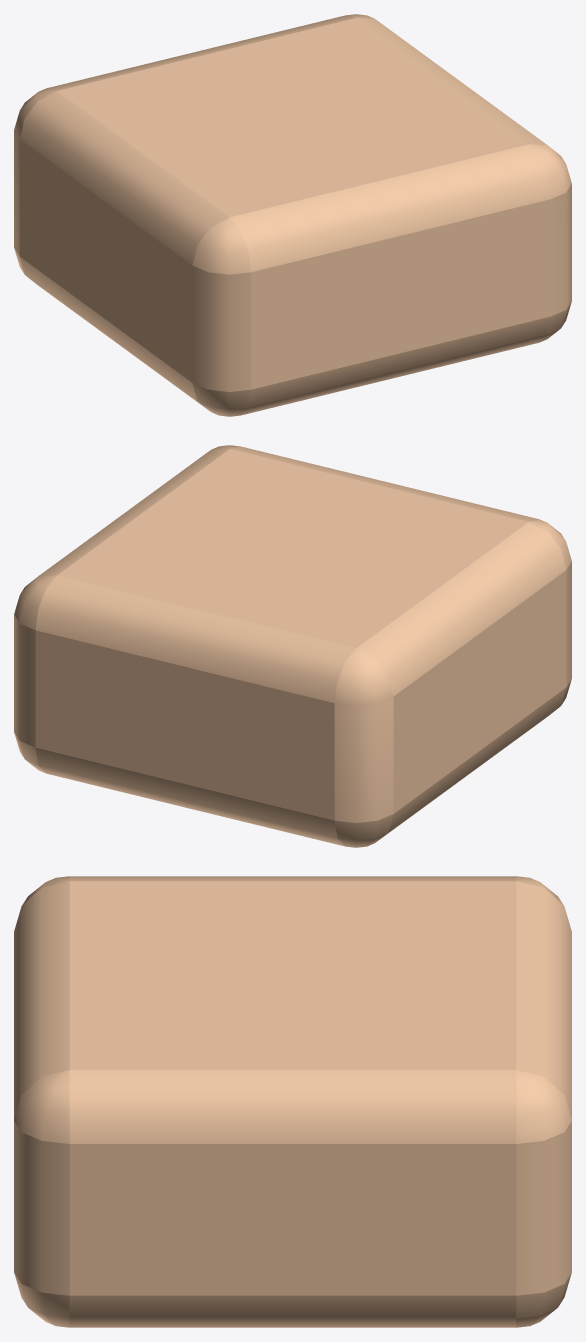
The picture shows the model from 3 angles, top to bottom: view 1: azimuth 30°, elevation 25°; view 2: azimuth 150°, elevation 25°; view 3: azimuth 270°, elevation 25°; orthographic projection. The views are drawn at different scales.
Parts seen in each view (by area): view 1: blockRoundedLow; view 2: blockRoundedLow; view 3: blockRoundedLow.
Boxes of the visible parts, x1=… form: blockRoundedLow: x1=14, y1=14, x2=571, y2=416; blockRoundedLow: x1=14, y1=445, x2=571, y2=847; blockRoundedLow: x1=14, y1=876, x2=571, y2=1327.
Bounding box in the file's own units: 1 × 0.5 × 1.
